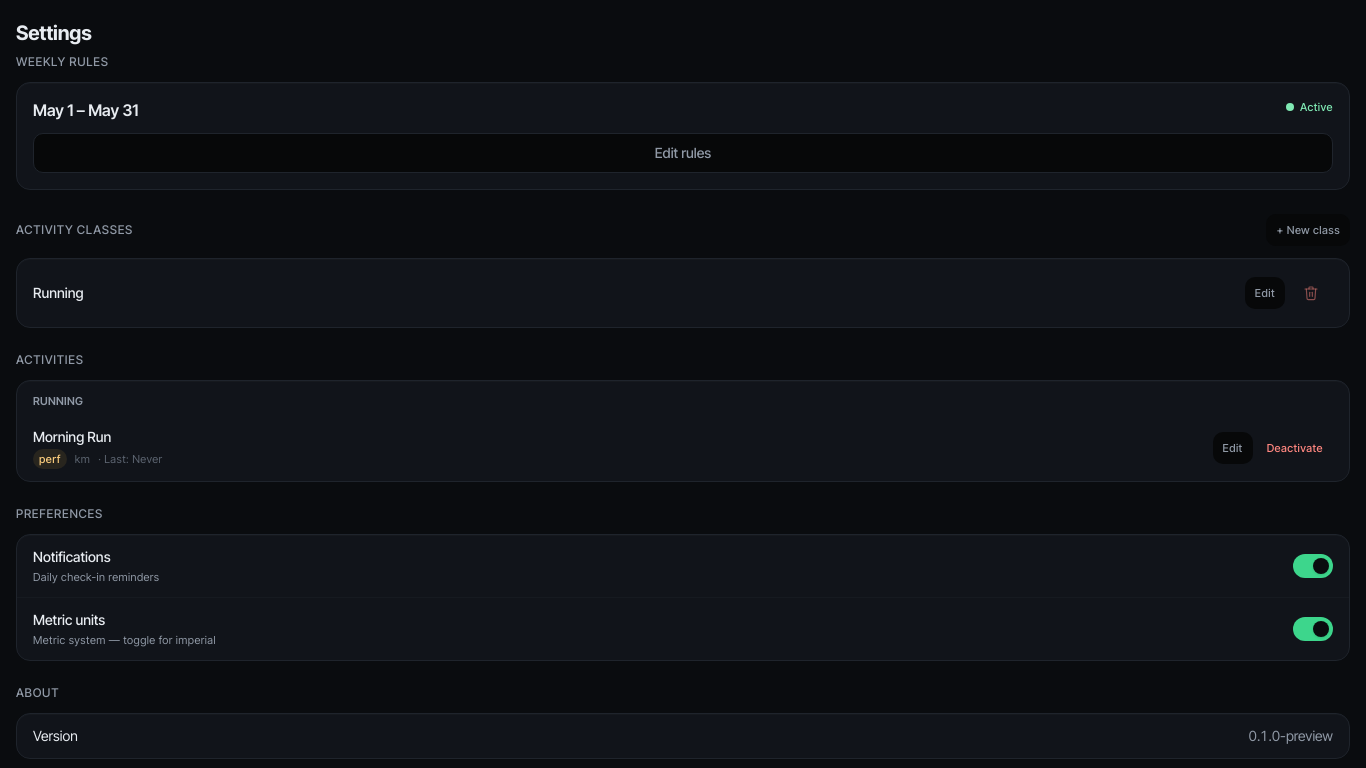
SettingsScreen — P25.2 EditActivityClassForm centered modal › retains X close control on edit class dialog
Click the button with aria-label "edit running". click: (1265, 293)
box: [1245, 277, 1285, 309]
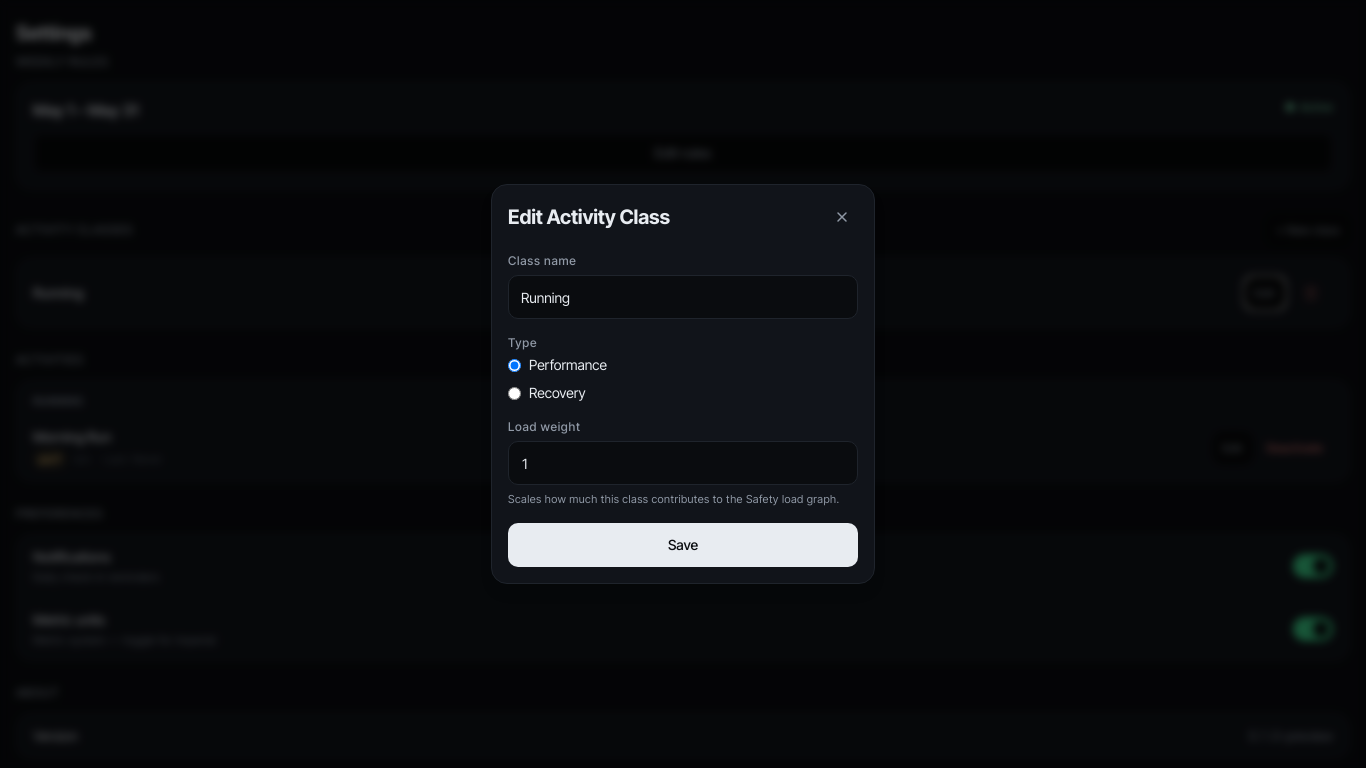
Click the button named "close". click: (842, 217)
box: [826, 201, 858, 233]
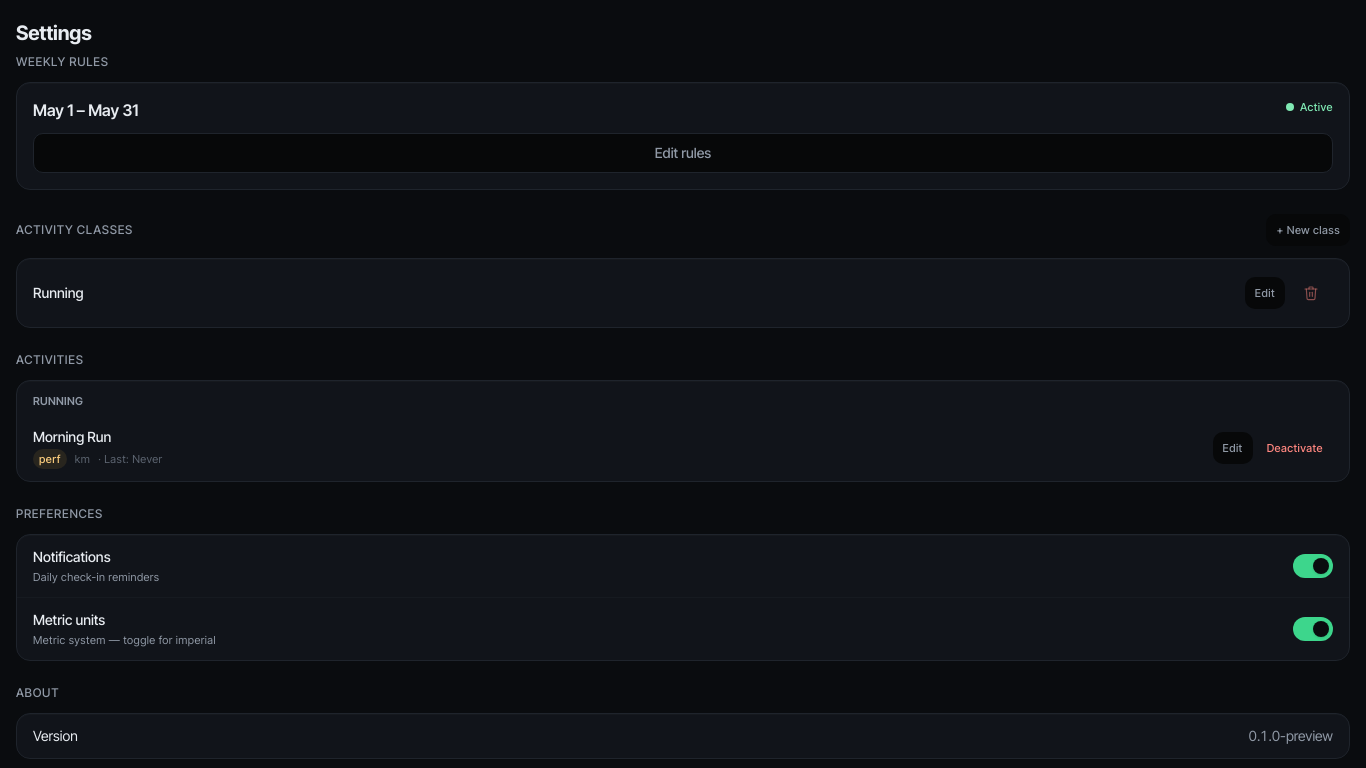
Expected: the heading "Edit Activity Class" is gone
